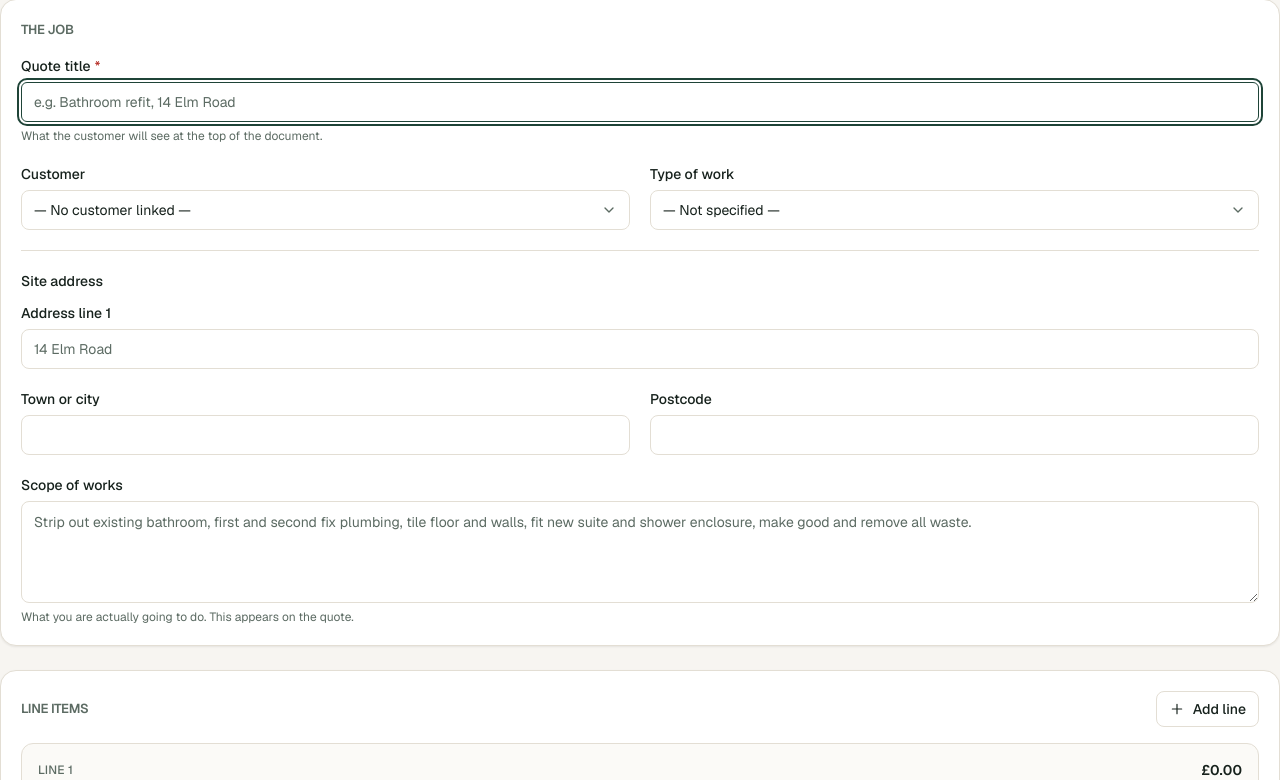
Scenario: GeneralQuoteBuilder — Sprint 036 › adds and removes line items
Click the button "Add line".
click(1207, 708)  # box [1156,690,1259,726]
(page scrolled)
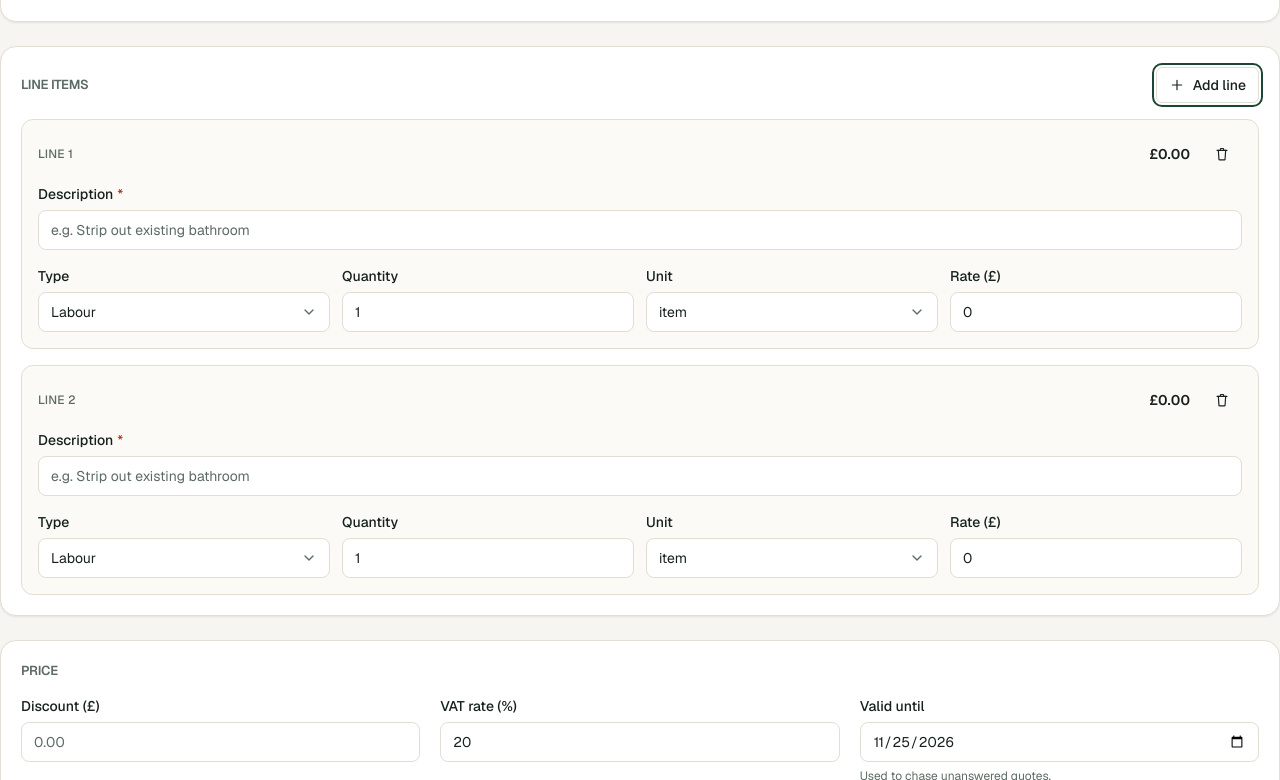
Result: the number of fields labelled "Description" is 2 at [38,210,1242,250]; [38,456,1242,496]
Click the button named "Remove line 2".
click(1222, 400)  # box [1202,382,1242,418]
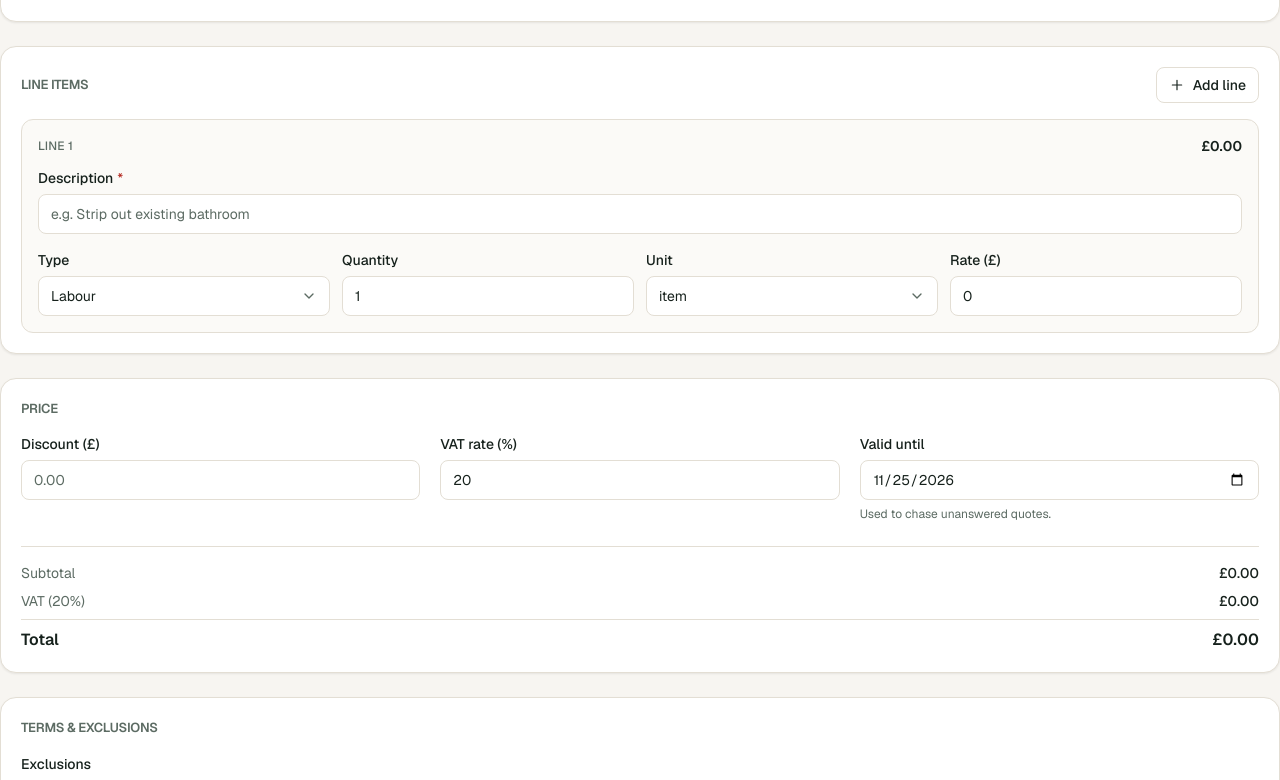
Result: the number of fields labelled "Description" is 1 at [38,194,1242,234]
